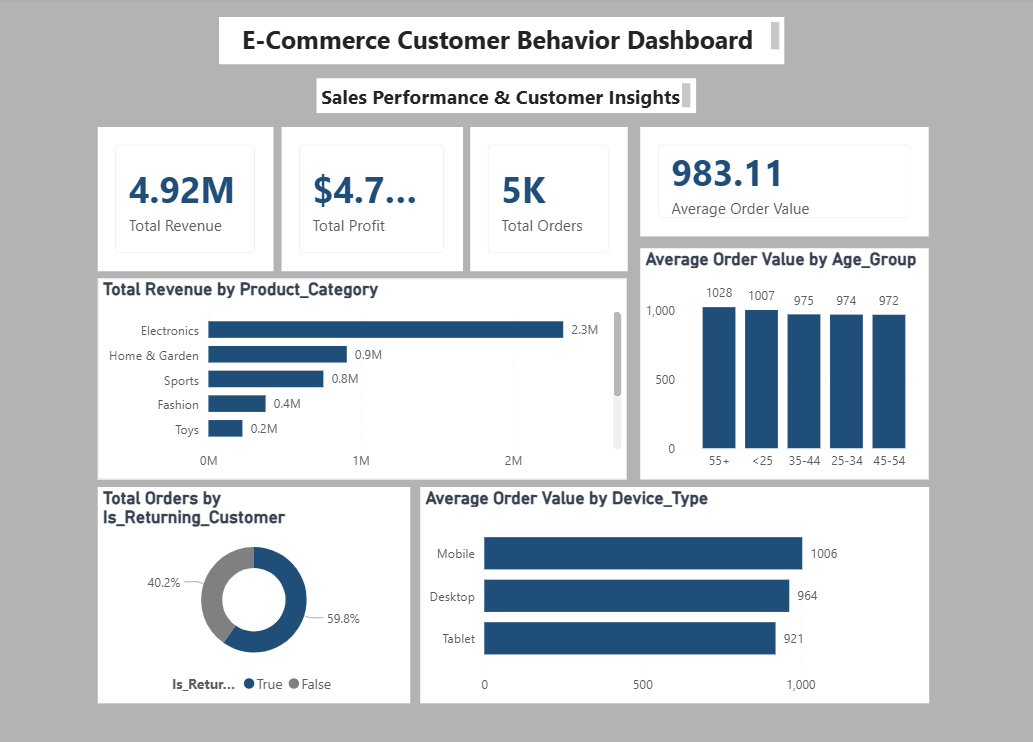

The page's visual inventory and layout, read from the dashboard file:
{"tool":"powerbi","page":{"name":"Page 1","canvas":[1280,720],"ordinal":0},"visuals":[{"type":"cardVisual","fields":{"Data":["02_cleaned_ecommerce.Total Revenue"]},"box":[216.1,125,169.6,139.3],"z":0},{"type":"cardVisual","fields":{"Data":["02_cleaned_ecommerce.Total Profit"]},"box":[392.9,125,175,139.3],"z":1000},{"type":"cardVisual","fields":{"Data":["02_cleaned_ecommerce.Total Orders"]},"box":[575,125,151.8,139.3],"z":2000},{"type":"cardVisual","fields":{"Data":["02_cleaned_ecommerce.Average Order Value"]},"box":[739.3,125,278.6,105.4],"z":3000},{"type":"clusteredBarChart","fields":{"Y":["02_cleaned_ecommerce.Total Revenue"],"Category":["02_cleaned_ecommerce.Product_Category"]},"box":[216.1,271.4,510.7,194.6],"z":4000},{"type":"columnChart","fields":{"Category":["02_cleaned_ecommerce.Age_Group"],"Y":["02_cleaned_ecommerce.Average Order Value"]},"box":[739.3,242.9,278.6,223.2],"z":5000},{"type":"donutChart","fields":{"Category":["02_cleaned_ecommerce.Is_Returning_Customer"],"Y":["02_cleaned_ecommerce.Total Orders"]},"box":[216.1,473.2,301.8,208.9],"z":6000},{"type":"barChart","fields":{"Category":["02_cleaned_ecommerce.Device_Type"],"Y":["02_cleaned_ecommerce.Average Order Value"]},"box":[526.8,473.2,491.1,208.9],"z":7000},{"type":"textbox","box":[332.8,19.7,545.9,45.9],"z":8000},{"type":"textbox","box":[426.8,78.6,366.1,33.9],"z":9000}]}

Visuals, with their boxes on the page's 1280x720 design canvas (x1, y1, x2, y2). These are canvas units, not pixel positions in the 1033x742 screenshot, which may show the page scaled, cropped or inside an application window:
cardVisual - 02_cleaned_ecommerce.Total Revenue: <box>216,125,386,264</box>
cardVisual - 02_cleaned_ecommerce.Total Profit: <box>393,125,568,264</box>
cardVisual - 02_cleaned_ecommerce.Total Orders: <box>575,125,727,264</box>
cardVisual - 02_cleaned_ecommerce.Average Order Value: <box>739,125,1018,230</box>
clusteredBarChart - 02_cleaned_ecommerce.Total Revenue x 02_cleaned_ecommerce.Product_Category: <box>216,271,727,466</box>
columnChart - 02_cleaned_ecommerce.Age_Group x 02_cleaned_ecommerce.Average Order Value: <box>739,243,1018,466</box>
donutChart - 02_cleaned_ecommerce.Is_Returning_Customer x 02_cleaned_ecommerce.Total Orders: <box>216,473,518,682</box>
barChart - 02_cleaned_ecommerce.Device_Type x 02_cleaned_ecommerce.Average Order Value: <box>527,473,1018,682</box>
textbox: <box>333,20,879,66</box>
textbox: <box>427,79,793,112</box>
